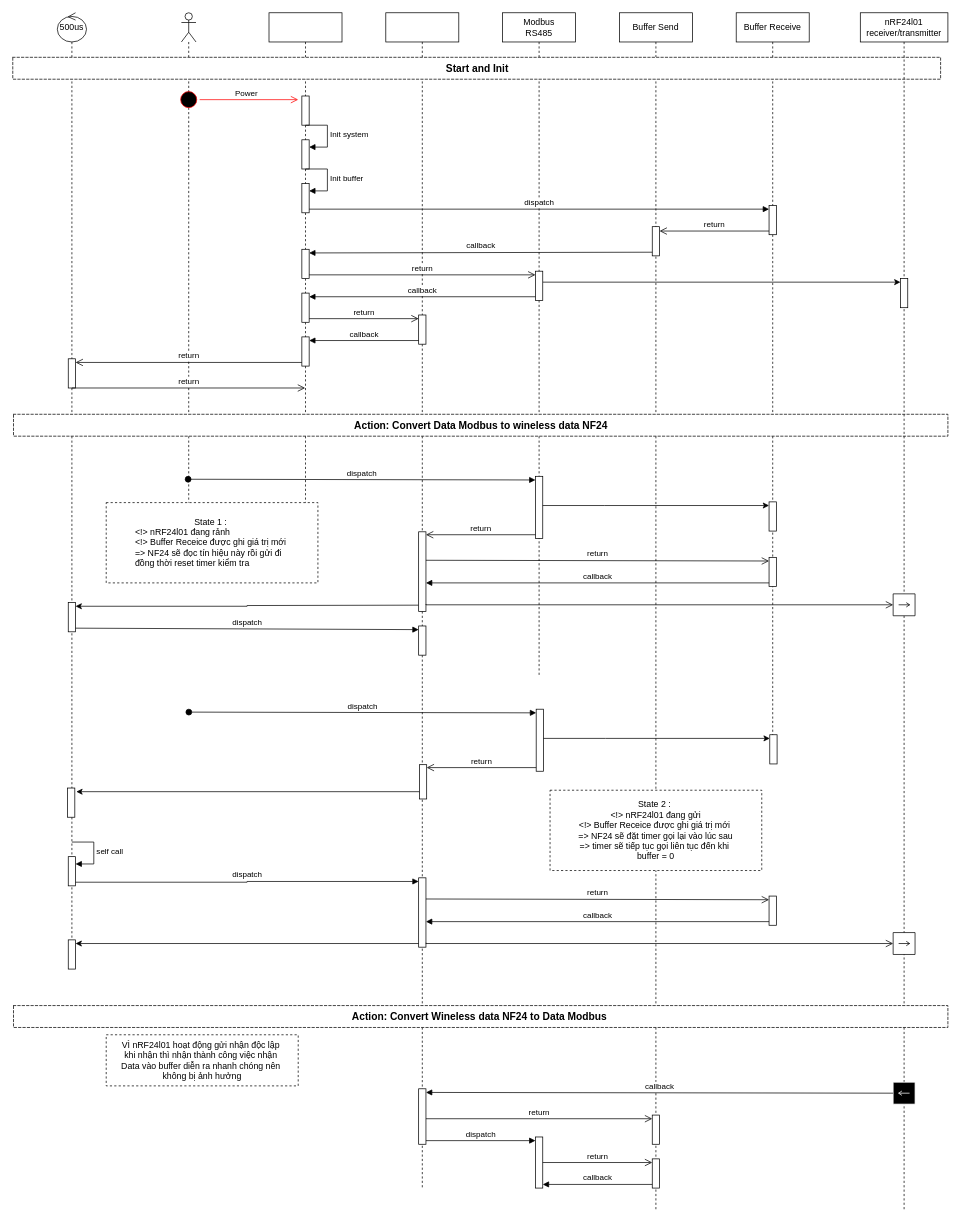
Image size: 961x1223. Some labels were removed from this diagram. Here are the shapes that lost their labels. From the top down, the centre of each, then its label:
(305,275): AK
(422,600): nRF24l01
